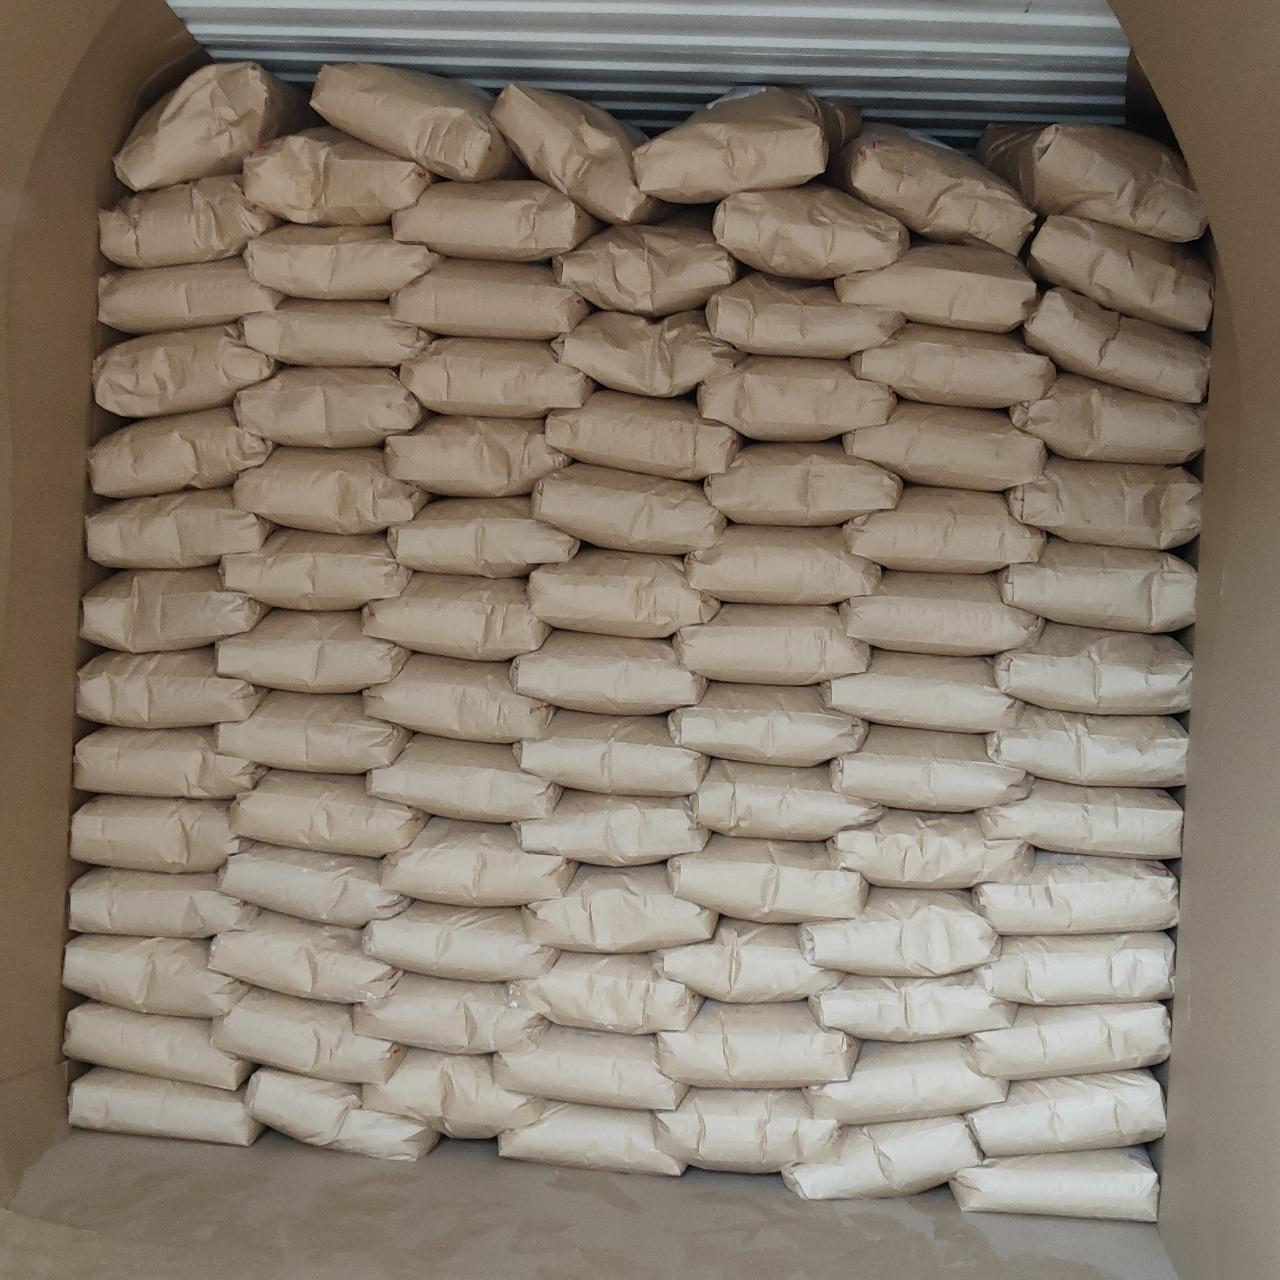sack: (826, 124, 1035, 256), (633, 84, 864, 203), (978, 124, 1207, 241), (114, 62, 316, 190), (490, 84, 662, 223), (311, 63, 513, 179), (1028, 216, 1212, 331), (1024, 287, 1208, 402), (554, 211, 736, 316), (999, 537, 1194, 632), (243, 125, 433, 223), (712, 185, 908, 279), (992, 622, 1192, 714), (843, 400, 1046, 490), (212, 987, 402, 1082), (1006, 456, 1200, 549), (209, 911, 402, 1003), (836, 244, 1036, 332), (532, 463, 724, 554), (799, 888, 999, 976), (844, 486, 1046, 573), (669, 835, 867, 922), (831, 726, 1032, 812), (655, 1001, 858, 1087), (1010, 373, 1203, 463), (546, 390, 741, 479), (850, 324, 1055, 408), (964, 1070, 1165, 1156), (233, 447, 429, 535), (93, 324, 275, 417), (367, 734, 561, 822), (706, 272, 905, 358), (381, 818, 577, 905), (89, 406, 274, 497), (247, 1070, 440, 1158), (524, 865, 719, 952), (840, 571, 1043, 654), (230, 770, 427, 856), (972, 852, 1177, 934), (527, 549, 719, 636), (805, 1040, 1007, 1123), (704, 441, 903, 525), (985, 704, 1187, 787), (101, 175, 278, 268), (361, 1049, 549, 1137), (697, 356, 896, 440), (492, 1024, 687, 1109), (973, 779, 1182, 858), (361, 573, 550, 660), (363, 655, 552, 742), (218, 840, 407, 927), (782, 1116, 983, 1197), (392, 181, 599, 259), (63, 1003, 251, 1090), (552, 311, 742, 396), (513, 710, 708, 794), (672, 602, 869, 685), (819, 651, 1016, 733), (670, 682, 867, 764), (216, 610, 408, 693), (510, 631, 704, 713), (829, 811, 1034, 888), (81, 567, 268, 652), (651, 1089, 840, 1172), (654, 918, 840, 1002), (390, 259, 590, 338), (400, 338, 595, 417), (688, 760, 883, 839), (220, 529, 411, 610), (218, 692, 409, 772), (966, 1003, 1169, 1080), (87, 486, 274, 568), (685, 525, 880, 604), (353, 974, 549, 1053), (76, 647, 266, 728), (510, 952, 700, 1033), (949, 1148, 1157, 1221), (363, 903, 557, 981), (388, 497, 578, 577), (234, 367, 425, 445), (384, 415, 570, 496), (63, 935, 245, 1017), (69, 1068, 261, 1145), (243, 225, 441, 299), (512, 791, 709, 865), (810, 971, 1015, 1041), (98, 256, 285, 333), (978, 932, 1175, 1005), (75, 727, 265, 798), (498, 1104, 686, 1176), (239, 298, 431, 366), (69, 869, 258, 938), (72, 795, 236, 873)
